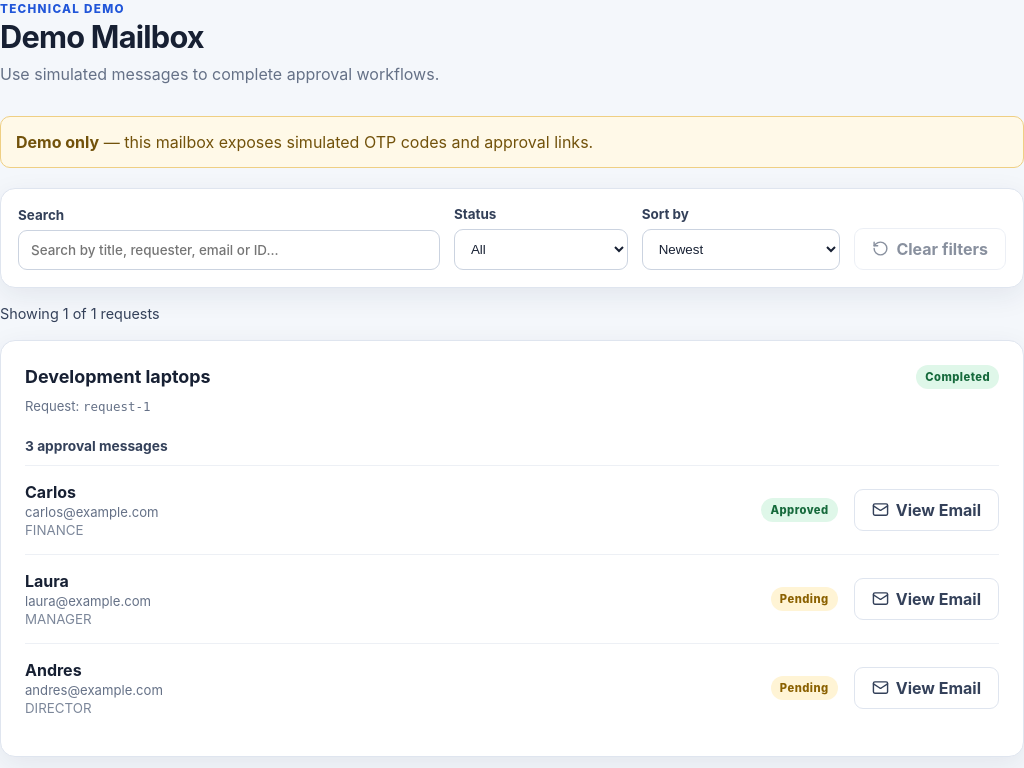
Scenario: MockMailPage › for request COMPLETED and approver SIGNED shows Request closed
Click the button "View Email" next to "Approved". click: (926, 510)
box: [854,489,999,531]
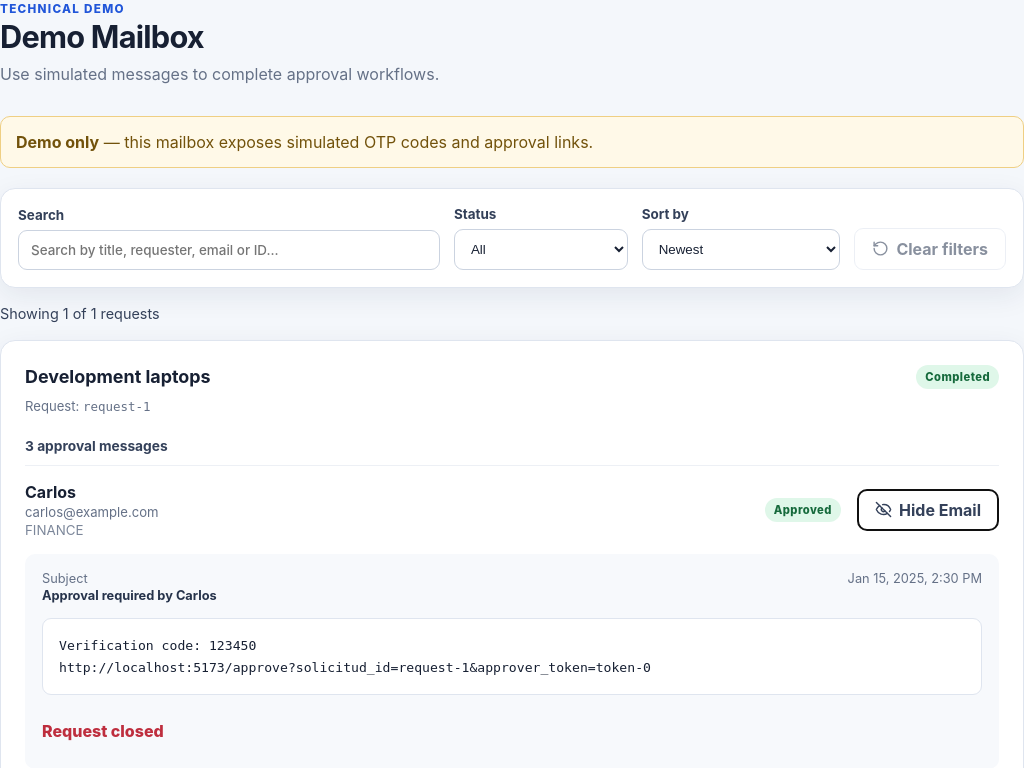
Result: the text "Request closed" is shown at [42,721,164,741]
